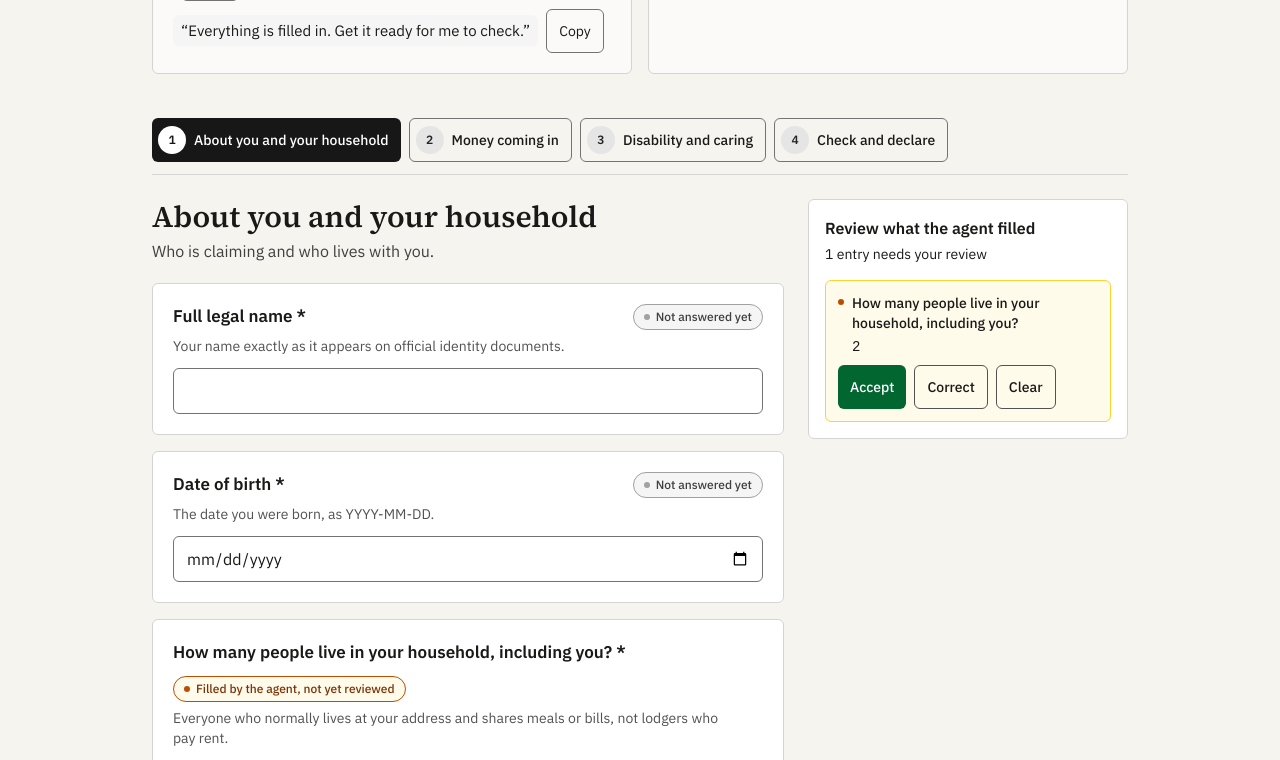
Hold the Pen page › an agent fill shows the unreviewed badge, lands in the queue, announces without the value, and Accept resolves it
The image size is (1280, 760).
(page scrolled)
Check: the text "Filled by the agent, not yet reviewed" is shown, box x1=173 y1=676 x2=406 y2=702
Check: the text "1 entry needs your review" is shown, box x1=825 y1=245 x2=987 y2=263
Click the button "Accept": click(872, 387) x1=838 y1=365 x2=906 y2=409
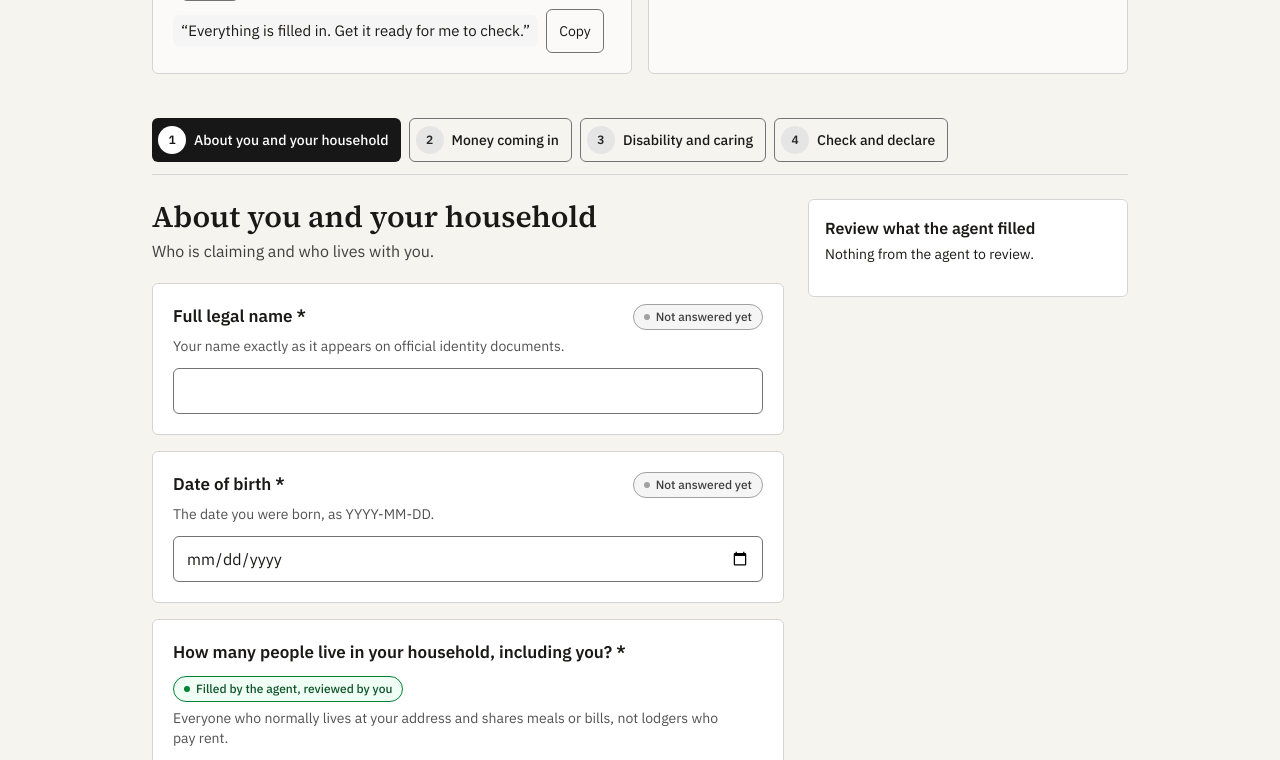
Check: the text "Filled by the agent, reviewed by you" is shown, box x1=173 y1=676 x2=403 y2=702
Check: the text "Nothing from the agent to review." is shown, box x1=825 y1=245 x2=1034 y2=263
